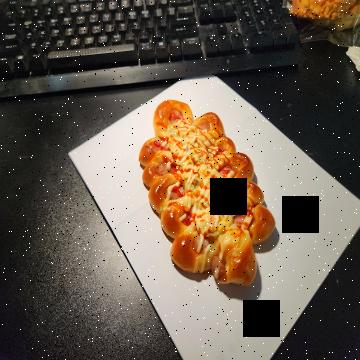pizza_bread: (140, 98, 276, 290)
